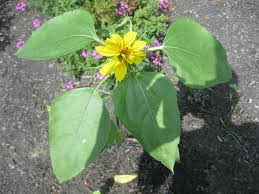girasol2meses: (69, 24, 178, 84)
